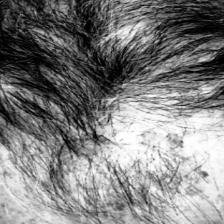Benign Marking or Mole: (76, 126, 216, 211)
